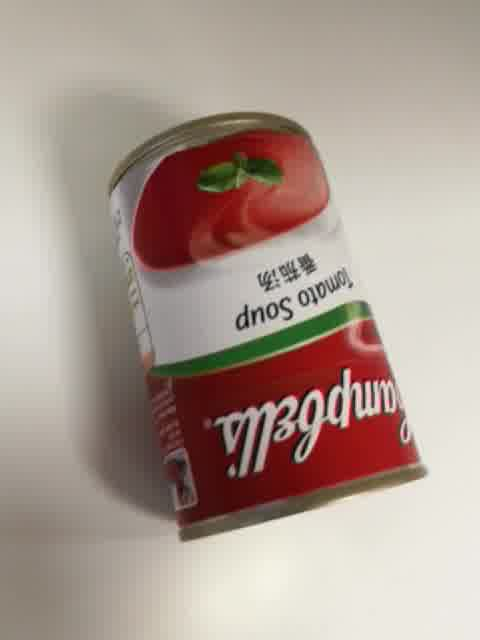tomatosoup: (107, 108, 432, 544)
